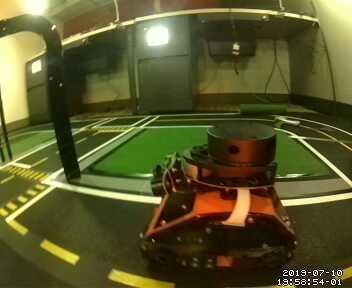pheeno: (137, 116, 300, 272)
